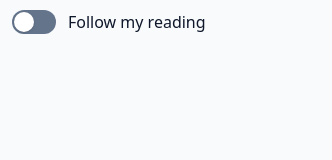
Test case: Switch › is role=switch, toggles by click and keyboard, label click works
The width and height of the screenshot is (332, 160).
Click the switch named "Follow my reading": x=34, y=22 12,10 -> 56,34
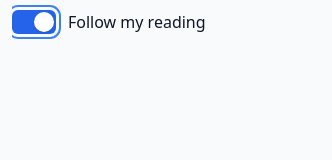
Now the switch named "Follow my reading" is checked, box 12,10 -> 56,34
Type keys " "
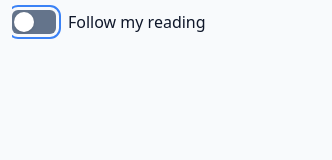
Now the switch named "Follow my reading" is not checked, box 12,10 -> 56,34
Click the text "Follow my reading": x=137, y=22 68,9 -> 206,35
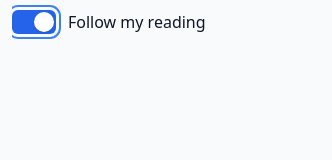
Now the switch named "Follow my reading" is checked, box 12,10 -> 56,34
